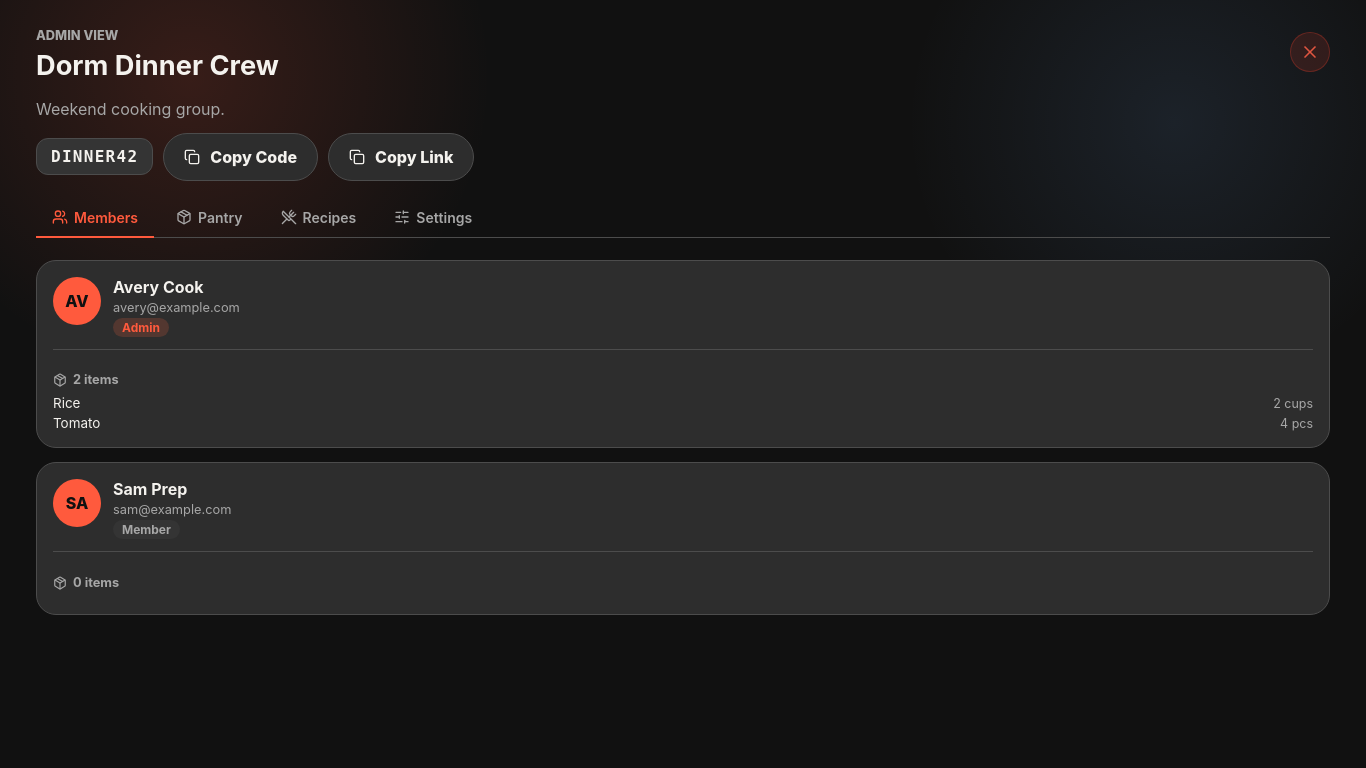
Test: GroupDetailPage › shows the combined pantry tab
Check: the heading "Dorm Dinner Crew" is shown, box [36,51,279,81]
Click the button "Pantry".
click(209, 218)  # box [160,198,259,238]
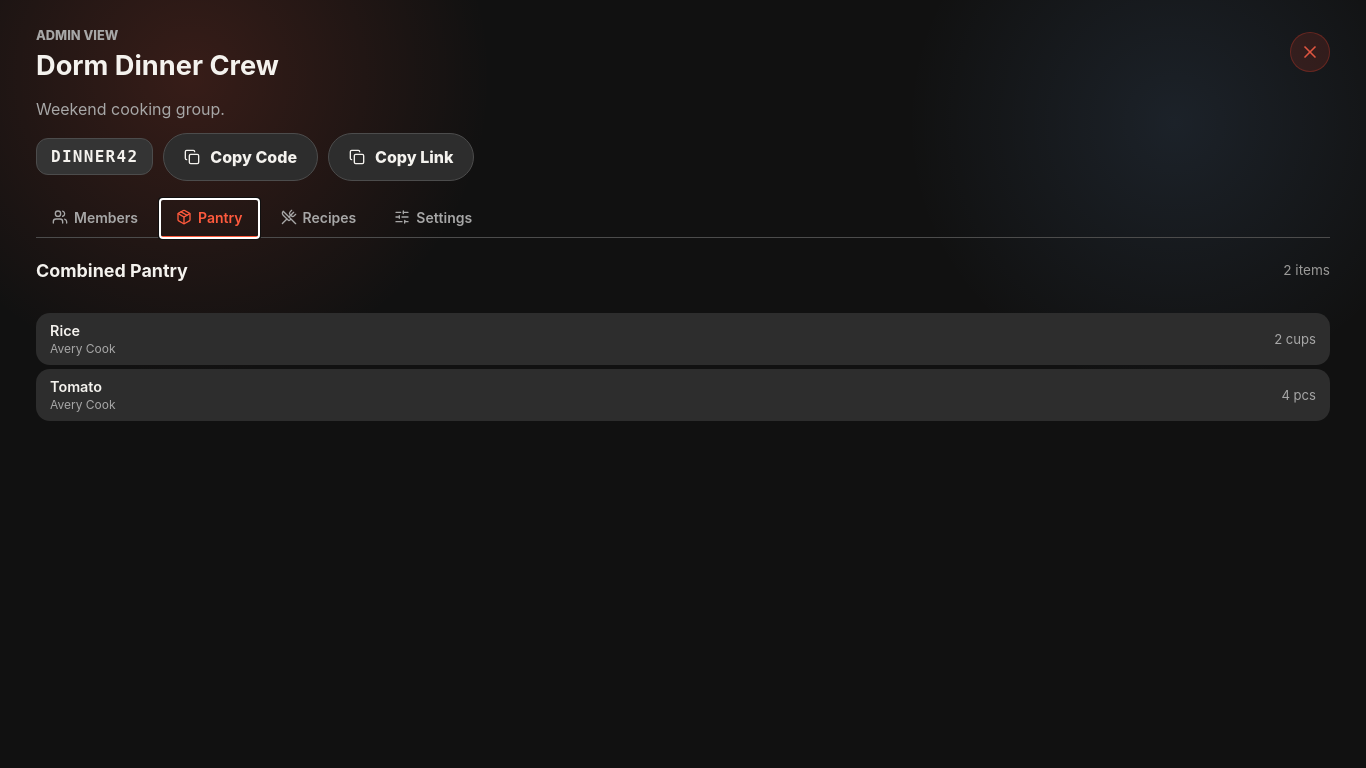
Check: the text "Rice" is shown, box [50,322,80,338]
Check: the heading "Combined Pantry" is shown, box [36,260,188,280]
Check: the text "Avery Cook" below "Rice" is shown, box [50,340,116,356]
